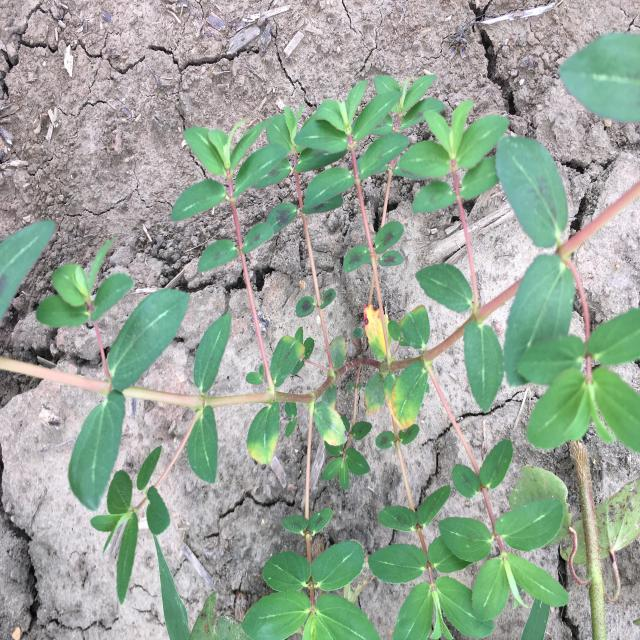SpottedSpurge: (1, 31, 639, 640)
